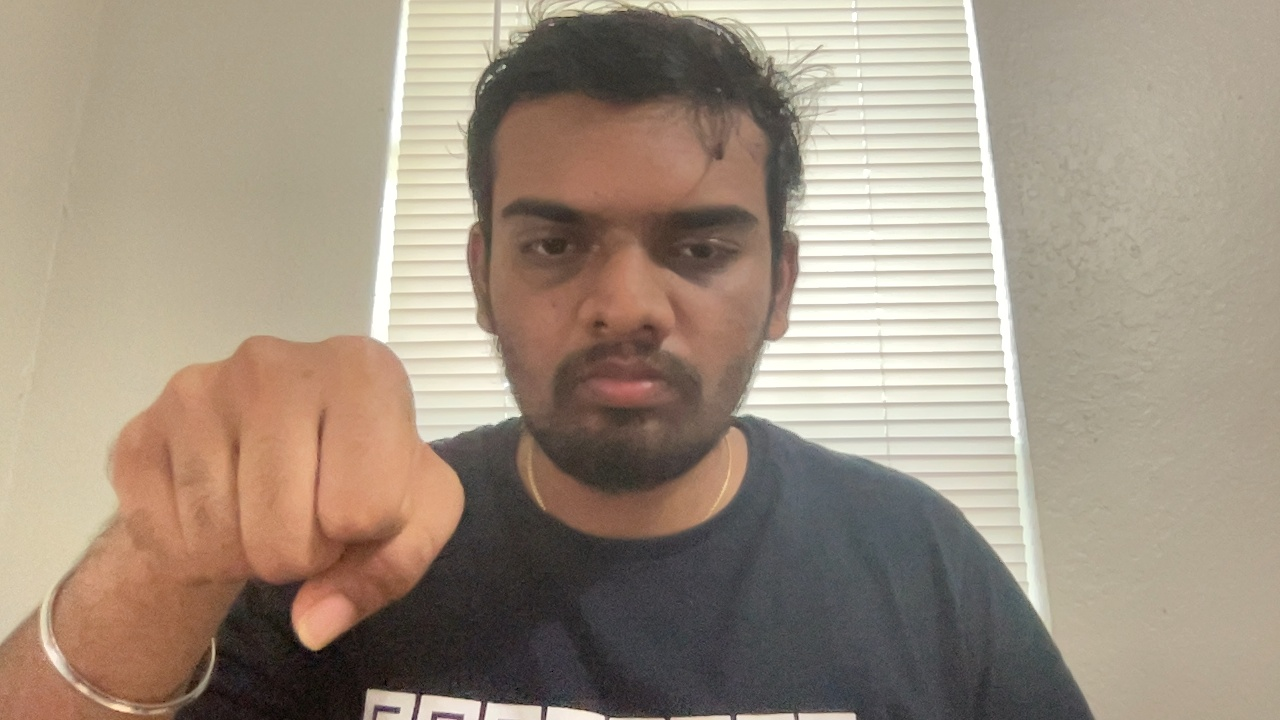yes: (93, 328, 465, 658)
